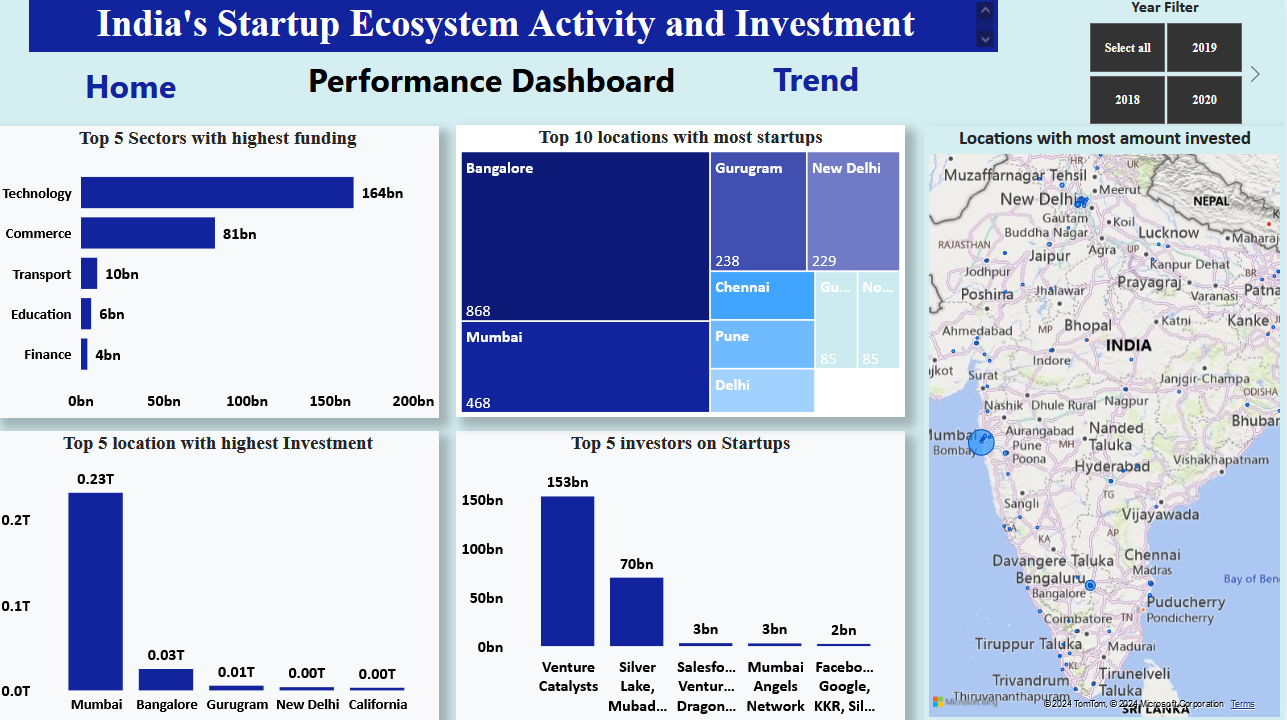

The dashboard page shown, as its layout file describes it:
{"tool":"powerbi","page":{"name":"Page 1","canvas":[1280,720],"ordinal":0},"visuals":[{"type":"pythonVisual","fields":{"Values":["data.sector","data.amount($)"]},"box":[9.6,97.4,400.7,362.3],"z":0},{"type":"pythonVisual","fields":{"Values":["data.headquarter","data.amount($)"]},"box":[450.1,400.7,419.9,319.7],"z":1},{"type":"pythonVisual","fields":{"Values":["data.headquarter"]},"box":[450.1,133.1,440.5,267.6],"z":2},{"type":"pythonVisual","fields":{"Values":["data.sector","data.amount($)"]},"box":[879.6,112.5,400.7,317],"z":4},{"type":"pythonVisual","fields":{"Values":["data.sector","data.amount($)"]},"box":[890.6,417.2,389.7,303.3],"z":5},{"type":"pythonVisual","fields":{"Values":["data.investor","data.amount($)"]},"box":[1327.5,112.5,608.8,608.8],"z":6},{"type":"card","box":[9.6,0,209.9,133.1],"z":7},{"type":"card","title":"Total Volume of Investment","fields":{"Values":["data.Sum of Amount"]},"box":[219.6,0,209.9,133.1],"z":8},{"type":"card","title":"Total Investment for Established Companies","fields":{"Values":["data.Established Amount"]},"box":[459.7,0,204.5,133.1],"z":9},{"type":"card","title":"Total Investment for Early Stage Companies","fields":{"Values":["data.Early Stage Amount"]},"box":[671,0,219.6,122.1],"z":10},{"type":"pythonVisual","fields":{"Values":["Sum(data.amount($))","data.investor"]},"box":[5.5,400.7,429.5,319.7],"z":11},{"type":"slicer","fields":{"Values":["data.year"]},"box":[1079.9,0,200.3,133.1],"z":12}]}

Visuals, with their boxes in screenshot pixels (x1, y1, x2, y2), scaled from the page's 1280x720 canvas onto the 1287x720 screenshot:
pythonVisual - data.sector x data.amount($): x1=10, y1=97, x2=413, y2=460
pythonVisual - data.headquarter x data.amount($): x1=453, y1=401, x2=875, y2=719
pythonVisual - data.headquarter: x1=453, y1=133, x2=895, y2=401
pythonVisual - data.sector x data.amount($): x1=884, y1=112, x2=1286, y2=430
pythonVisual - data.sector x data.amount($): x1=895, y1=417, x2=1286, y2=719
card: x1=10, y1=0, x2=221, y2=133
"Total Volume of Investment" card: x1=221, y1=0, x2=432, y2=133
"Total Investment for Established Companies" card: x1=462, y1=0, x2=668, y2=133
"Total Investment for Early Stage Companies" card: x1=675, y1=0, x2=895, y2=122
pythonVisual - Sum(data.amount($)) x data.investor: x1=6, y1=401, x2=437, y2=719
slicer - data.year: x1=1086, y1=0, x2=1286, y2=133
